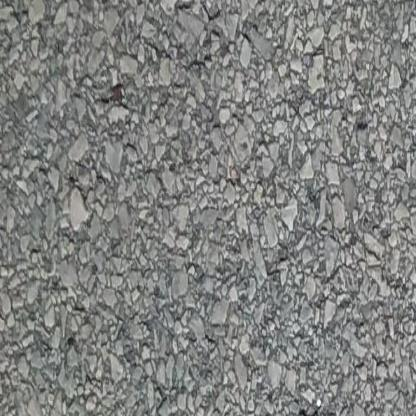Cracks: (260, 0, 364, 416)
